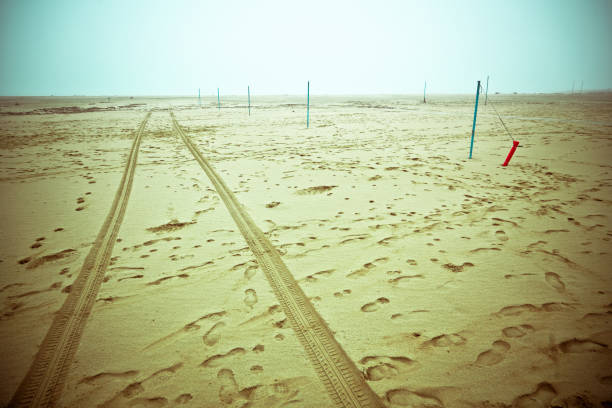vehicle_track: (170, 112, 382, 406), (9, 112, 151, 407)
